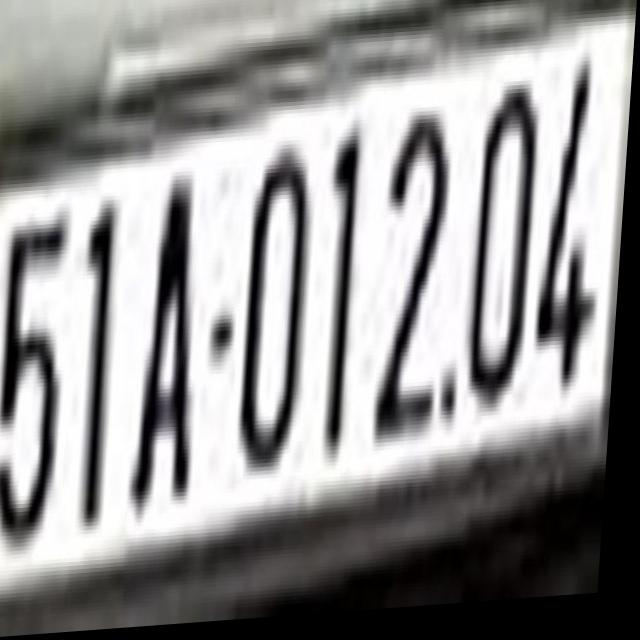0: (238, 148, 315, 477), (474, 73, 544, 402)
1: (74, 186, 128, 541), (321, 129, 367, 465)
2: (377, 131, 456, 442)
4: (538, 61, 614, 390)
5: (0, 197, 77, 545)
A: (134, 177, 212, 515)
